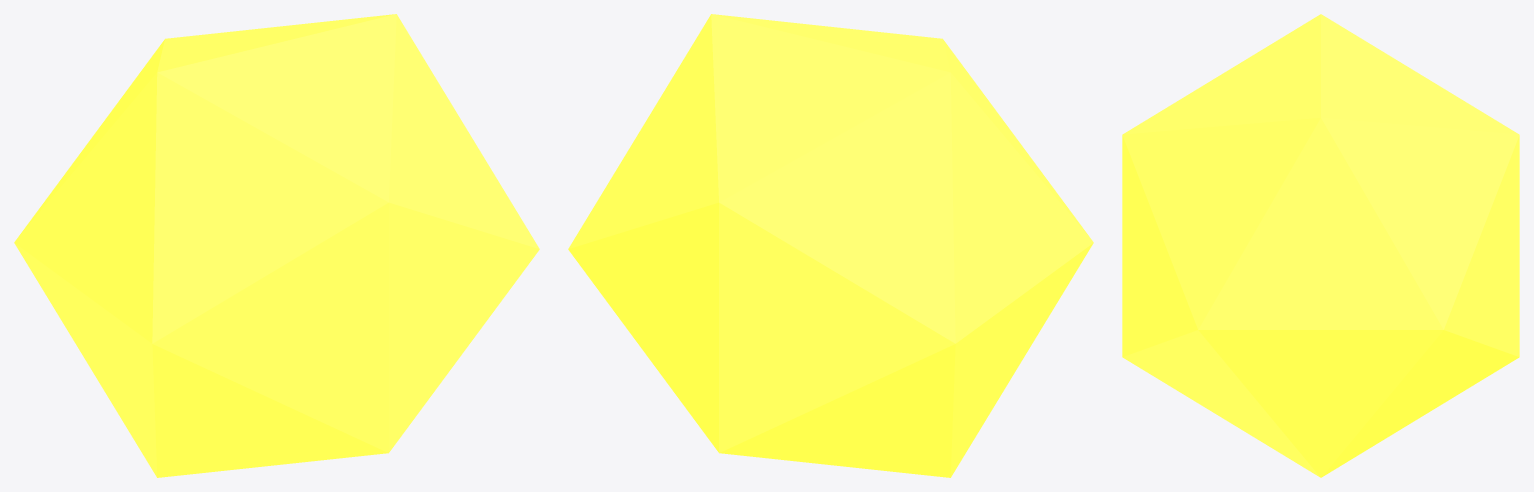
Rendered from neural_core.glb.
The picture shows the model from 3 angles, left to right: view 1: azimuth 30°, elevation 25°; view 2: azimuth 150°, elevation 25°; view 3: azimuth 270°, elevation 25°; orthographic projection. The views are drawn at different scales.
Visible parts, largest first — view 1: Synaptic_Lattice; view 2: Synaptic_Lattice; view 3: Synaptic_Lattice.
Part boxes in pixels (x1,y1,x2,y2): Synaptic_Lattice: (14, 14, 539, 477); Synaptic_Lattice: (568, 14, 1093, 477); Synaptic_Lattice: (1122, 14, 1519, 477).
Size of what is drawn, in the model's own units: 4.42 by 4.42 by 4.42.
